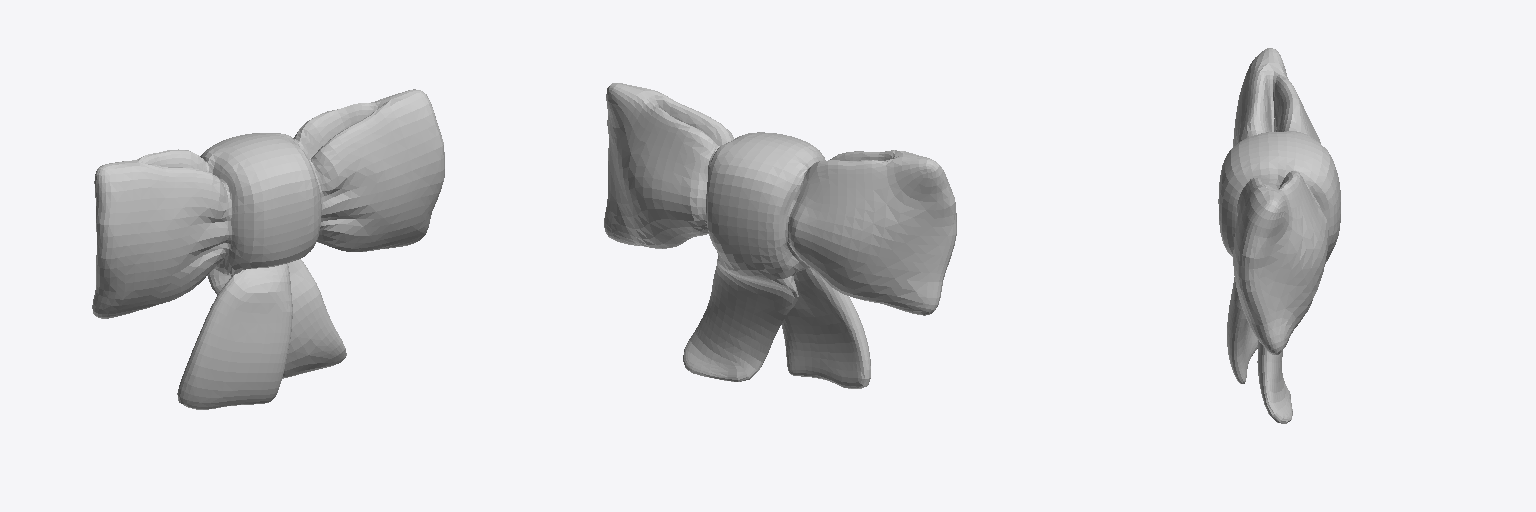
Rendered from Bow.obj.
3 views of the same model, side by side, from view 1: azimuth 30°, elevation 25°; view 2: azimuth 150°, elevation 25°; view 3: azimuth 270°, elevation 25° (orthographic).
Visible parts, largest first — view 1: Group64139; view 2: Group64139; view 3: Group64139.
Boxes of the visible parts, <box> form: Group64139: <box>92,89,444,409</box>; Group64139: <box>604,83,956,388</box>; Group64139: <box>1218,48,1340,423</box>.
Bounding box in the file's own units: 5.23 × 3.79 × 1.61.